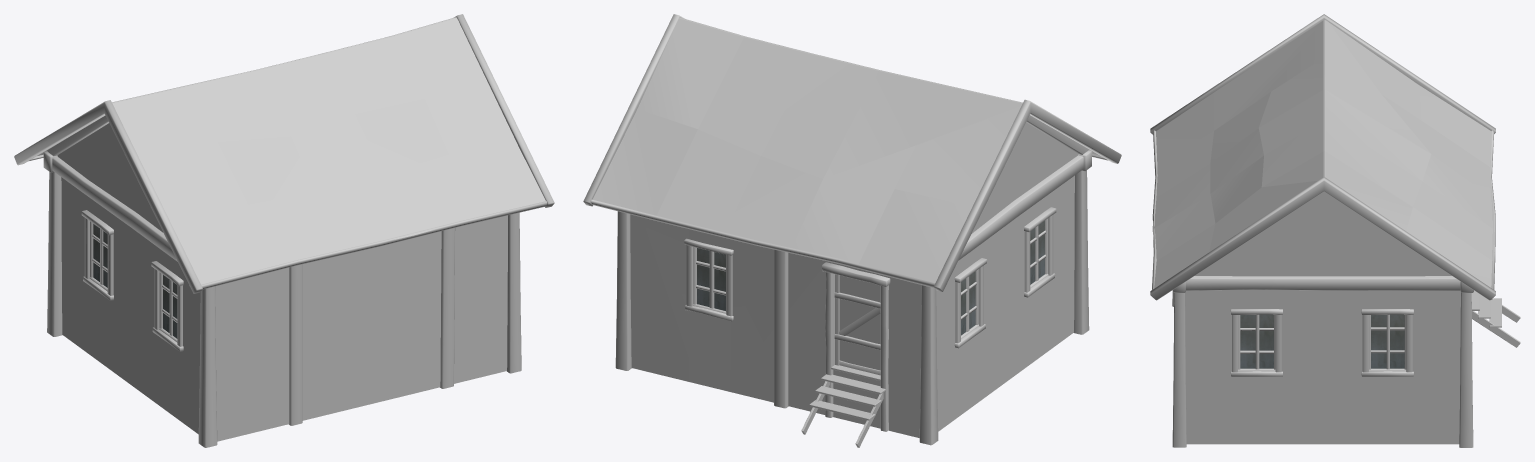
File: House_3.FBX
The picture shows the model from 3 angles, left to right: view 1: azimuth 30°, elevation 25°; view 2: azimuth 150°, elevation 25°; view 3: azimuth 270°, elevation 25°; orthographic projection. The views are drawn at different scales.
Parts seen in each view (by area): view 1: Mesh; view 2: Mesh; view 3: Mesh.
Part boxes in pixels (x1,y1,x2,y2): Mesh: (14,14,554,447); Mesh: (583,14,1121,447); Mesh: (1150,14,1520,447).
Bounding box in the file's own units: 890 × 840 × 694.
